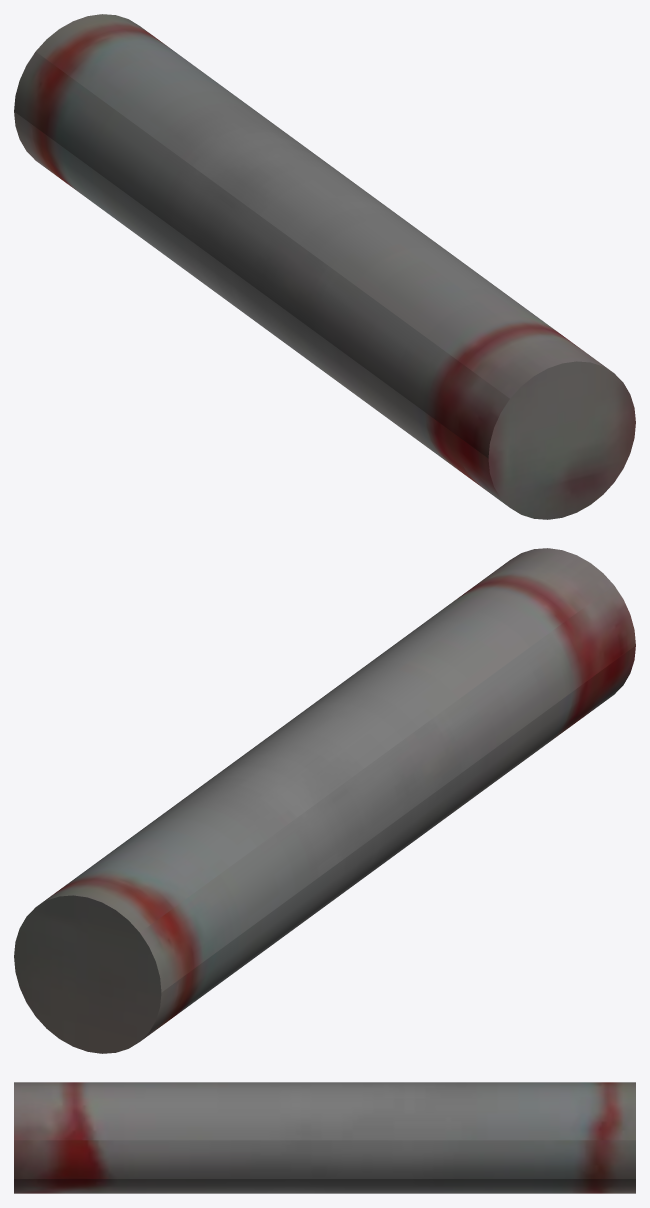
Rendered from joystick_1__shaft.glb.
The picture shows the model from 3 angles, top to bottom: view 1: azimuth 30°, elevation 25°; view 2: azimuth 150°, elevation 25°; view 3: azimuth 270°, elevation 25°; orthographic projection. The views are drawn at different scales.
Parts seen in each view (by area): view 1: geometry_0; view 2: geometry_0; view 3: geometry_0.
Boxes of the visible parts, x1,y1,x2,y2 form: geometry_0: [14, 14, 635, 519]; geometry_0: [14, 548, 635, 1053]; geometry_0: [14, 1082, 635, 1193].
Size of the model in its own units: 0.014 by 0.014 by 0.078.
Materials: 1 (1 with a texture image).
